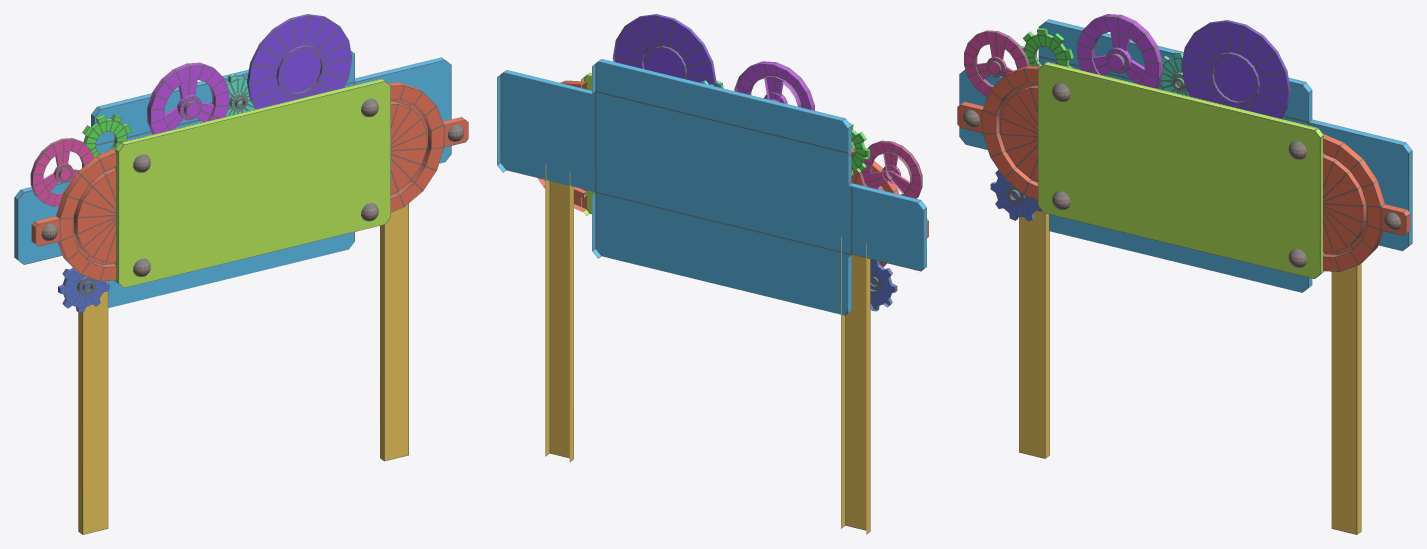
Rendered from pai.FBX.
3 views of the same model, side by side, from view 1: azimuth 30°, elevation 25°; view 2: azimuth 150°, elevation 25°; view 3: azimuth 330°, elevation 25° (orthographic). The views are drawn at different scales.
Parts seen in each view (by area): view 1: Box001, Box002, Cylinder003, Box003, Box004, Tube003, Tube002, Tube001, Tube004, Tube007, Tube005, Tube006; view 2: Box002, Box003, Box004, Cylinder003, Tube004, Tube001, Tube007, Tube005; view 3: Box001, Box002, Box003, Cylinder003, Box004, Tube002, Tube003, Tube001, Tube004, Tube007, Tube005, Tube006 (+1 smaller).
Part boxes in pixels (<box>): Box001: <box>115,78,390,287</box>; Box002: <box>14,51,451,307</box>; Cylinder003: <box>247,14,352,109</box>; Box003: <box>380,203,408,461</box>; Box004: <box>78,281,108,534</box>; Tube003: <box>31,148,115,281</box>; Tube002: <box>388,82,468,212</box>; Tube001: <box>147,62,229,134</box>; Tube004: <box>30,138,93,206</box>; Tube007: <box>58,267,110,312</box>; Tube005: <box>82,114,131,157</box>; Tube006: <box>210,72,255,116</box>; Box002: <box>497,59,926,315</box>; Box003: <box>545,164,573,461</box>; Box004: <box>841,236,870,534</box>; Cylinder003: <box>612,14,716,84</box>; Tube004: <box>859,140,922,198</box>; Tube001: <box>734,61,814,110</box>; Tube007: <box>870,259,897,311</box>; Tube005: <box>849,123,870,175</box>; Box001: <box>1038,62,1323,278</box>; Box002: <box>959,19,1412,292</box>; Box003: <box>1331,263,1361,534</box>; Cylinder003: <box>1181,20,1290,118</box>; Box004: <box>1019,210,1049,458</box>; Tube002: <box>1323,134,1410,271</box>; Tube003: <box>957,65,1040,200</box>; Tube001: <box>1077,14,1162,88</box>; Tube004: <box>964,30,1029,96</box>; Tube007: <box>990,170,1041,221</box>; Tube005: <box>1021,28,1073,67</box>; Tube006: <box>1160,51,1189,96</box>.
Size of the model in its own units: 672 by 683 by 53.75.
Materials: 1 (1 with a texture image).
